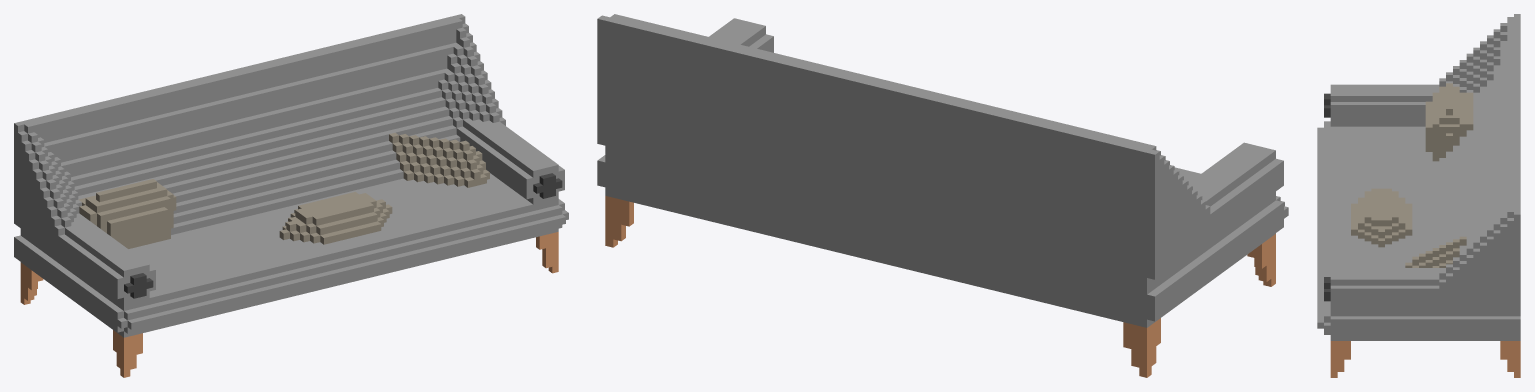
File: Sofa_with_Pillow.obj
3 renders of one model, left to right at view 1: azimuth 30°, elevation 25°; view 2: azimuth 150°, elevation 25°; view 3: azimuth 270°, elevation 25°, orthographic. The views are drawn at different scales.
Bounding box in the file's own units: 7 × 2.7 × 3.
1 material, 1 textured.
